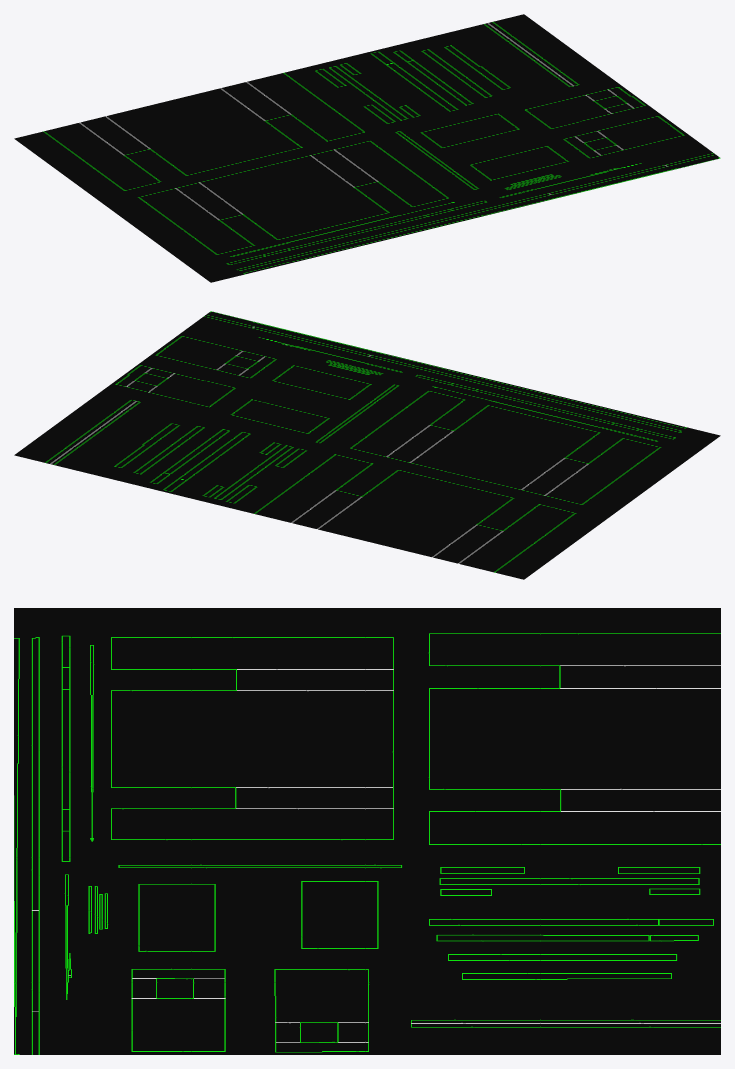
Rendered from lantai luar.FBX.
3 renders of one model, top to bottom at view 1: azimuth 30°, elevation 25°; view 2: azimuth 150°, elevation 25°; view 3: azimuth 270°, elevation 25°, orthographic. The views are drawn at different scales.
Parts seen in each view (by area): view 1: lantai luar; view 2: lantai luar; view 3: lantai luar.
Part boxes in pixels (x1=…): lantai luar: x1=14, y1=14, x2=720, y2=282; lantai luar: x1=14, y1=311, x2=720, y2=579; lantai luar: x1=14, y1=608, x2=720, y2=1054.
Bounding box in the file's own units: 288 × 5.77e-05 × 192.
